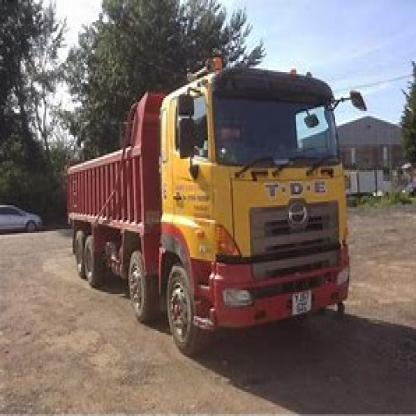dump_truck: (54, 43, 370, 358)
